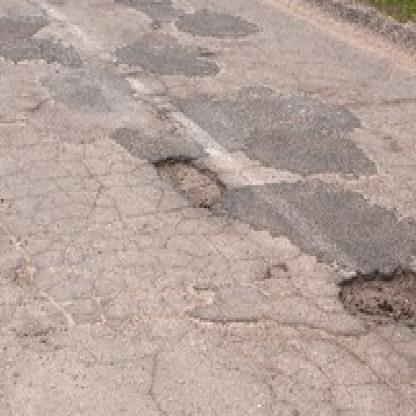pothole: (338, 263, 416, 327), (151, 156, 225, 213)
